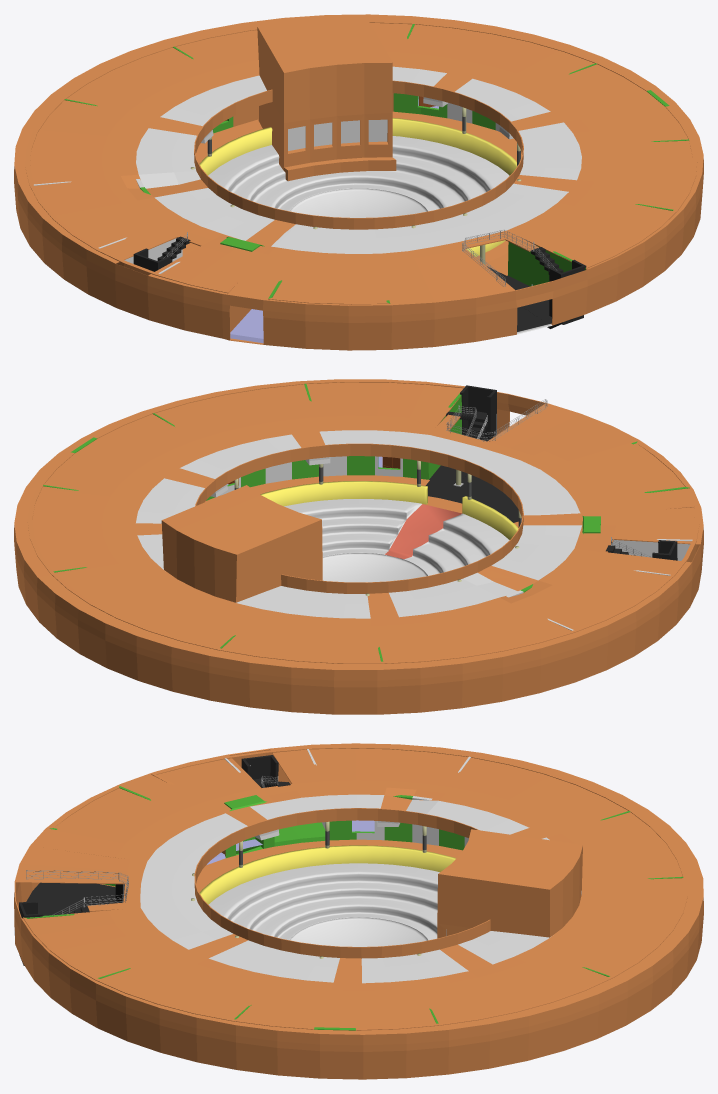
3 renders of one model, top to bottom at view 1: azimuth 30°, elevation 25°; view 2: azimuth 150°, elevation 25°; view 3: azimuth 270°, elevation 25°, orthographic.
Visible parts, largest first — view 1: main building, rooms, centre ground, corridoor walls, stair 1, stair 1.002, rails; view 2: main building, rooms, centre ground, corridoor walls, stair 1, rails, stair 1.002; view 3: main building, rooms, centre ground, corridoor walls, stair 1.002, rails, stair 1.
Boxes of the visible parts, x1,y1,x2,y2 form: main building: (14,14,703,350); rooms: (25,16,697,343); centre ground: (208,136,509,217); corridoor walls: (199,118,516,256); stair 1: (531,241,586,324); stair 1.002: (133,232,190,271); rails: (462,229,532,286); main building: (14,379,703,714); rooms: (27,380,699,663); centre ground: (284,499,509,582); corridoor walls: (260,481,518,539); stair 1: (446,385,496,440); rails: (446,399,547,441); stair 1.002: (606,537,677,560); main building: (14,743,703,1079); rooms: (23,746,687,1030); centre ground: (208,863,439,946); corridoor walls: (199,845,455,904); stair 1.002: (241,755,290,787); rails: (26,870,128,906); stair 1: (19,897,89,965).
Bounding box in the file's own units: 6115 × 1110 × 6112.
